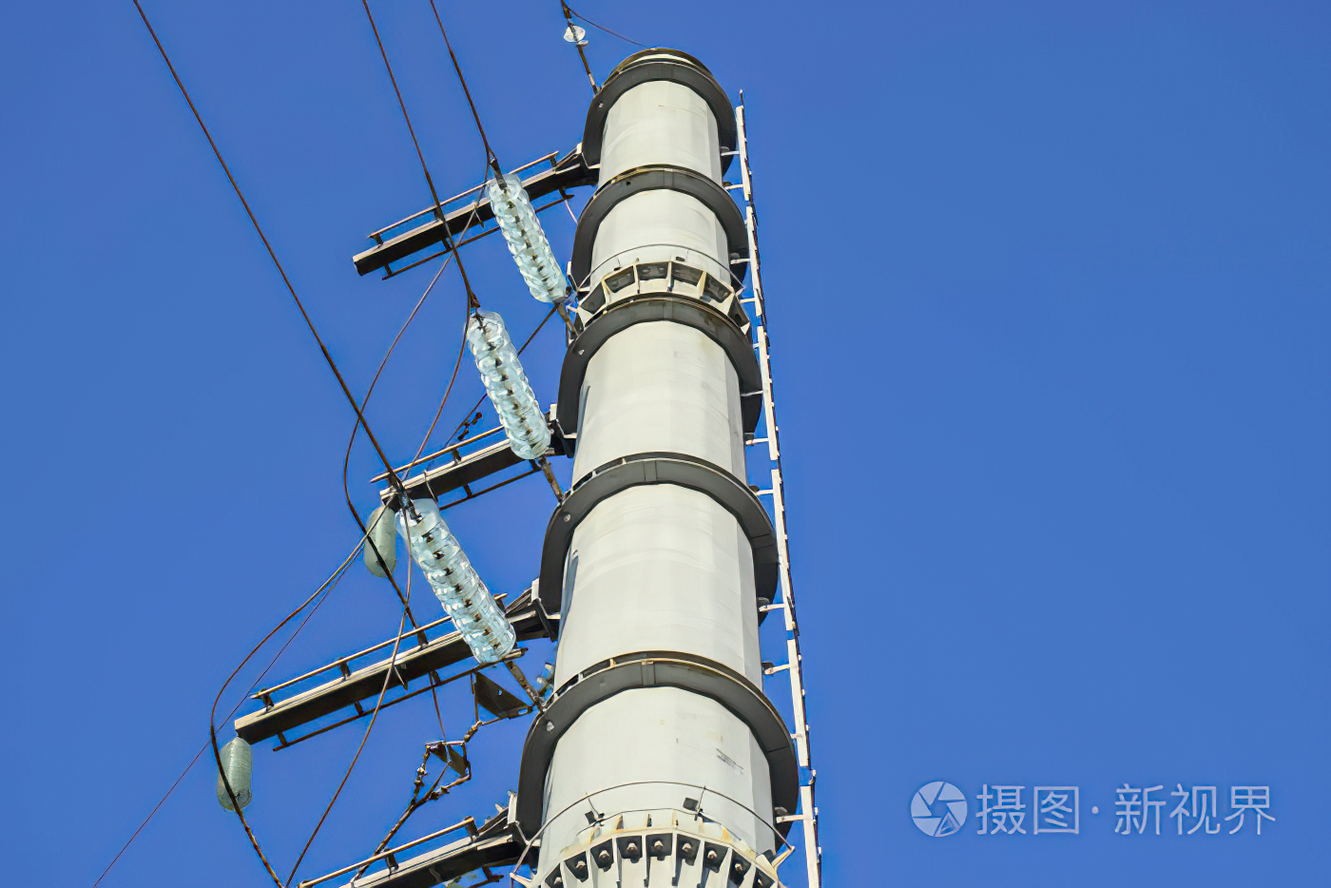insulator: (394, 499, 516, 665), (463, 312, 550, 461), (482, 178, 567, 303)
